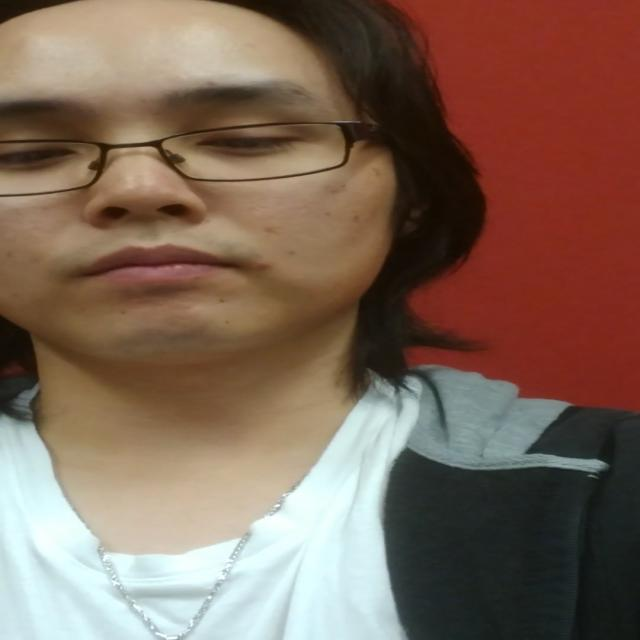Eyeclosed: (196, 122, 305, 161), (0, 140, 79, 176)
